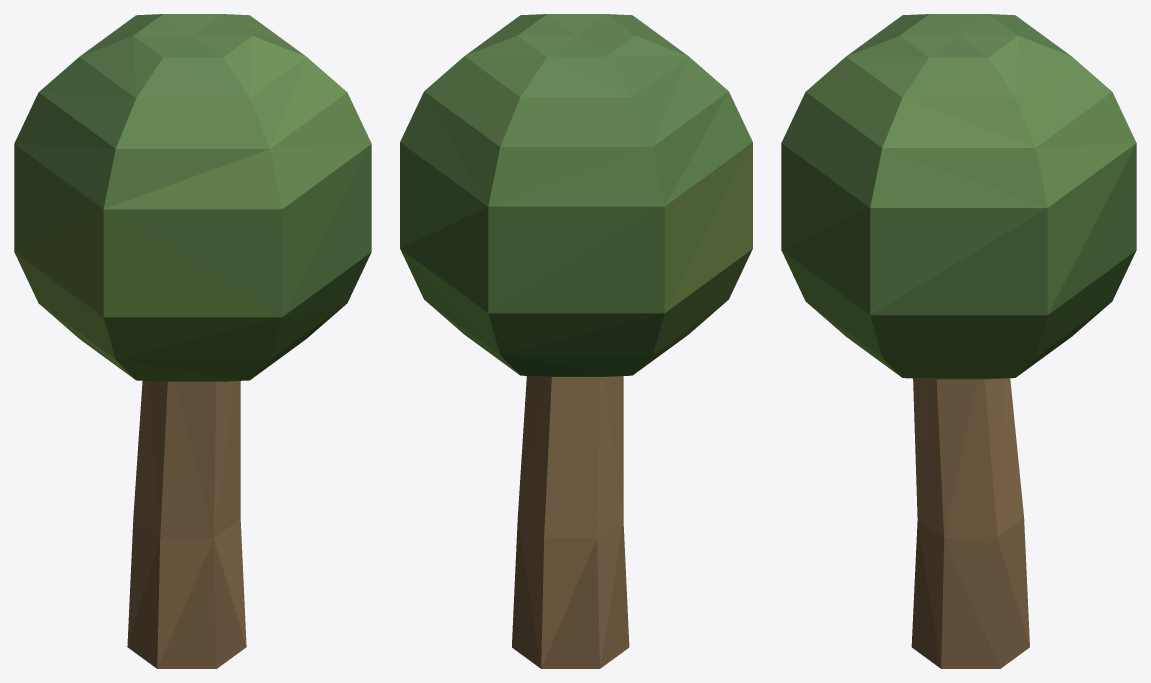
The model's file is Prop_Tree_Oak_3.glb.
The picture shows the model from 3 angles, left to right: view 1: azimuth 30°, elevation 25°; view 2: azimuth 150°, elevation 25°; view 3: azimuth 270°, elevation 25°; orthographic projection.
Parts seen in each view (by area): view 1: Prop_Tree_Oak_3_Merged; view 2: Prop_Tree_Oak_3_Merged; view 3: Prop_Tree_Oak_3_Merged.
Part boxes in pixels (x1,y1,x2,y2): Prop_Tree_Oak_3_Merged: [14, 14, 371, 668]; Prop_Tree_Oak_3_Merged: [400, 14, 752, 668]; Prop_Tree_Oak_3_Merged: [781, 14, 1136, 668].
Bounding box in the file's own units: 1.3 × 2.85 × 1.5.
